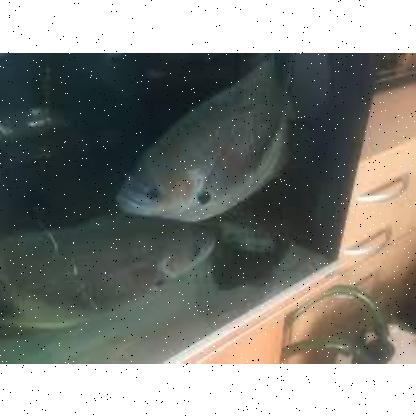gurame: (112, 53, 308, 223)
